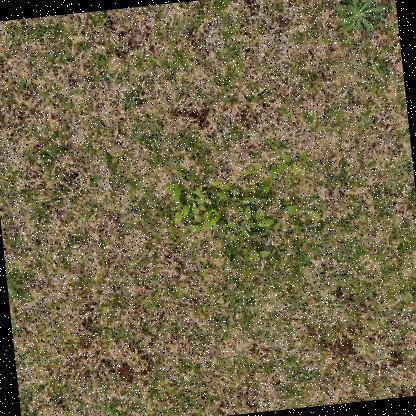Weeds: (161, 150, 322, 269)
